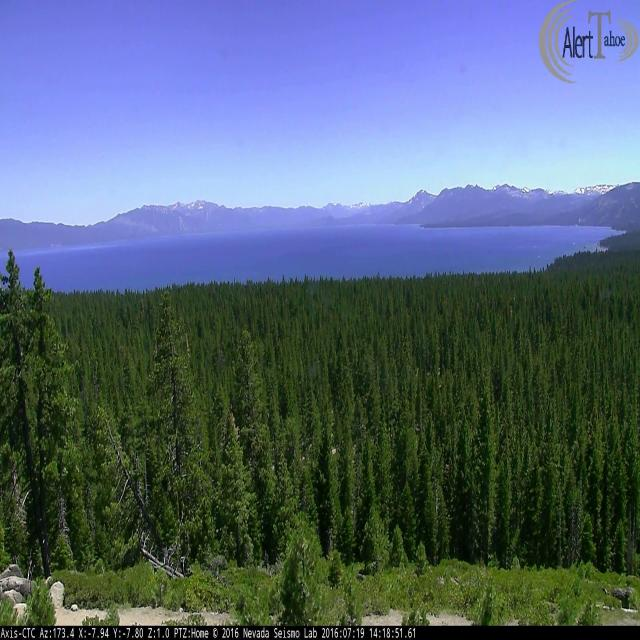smoke: (591, 246, 608, 253)
